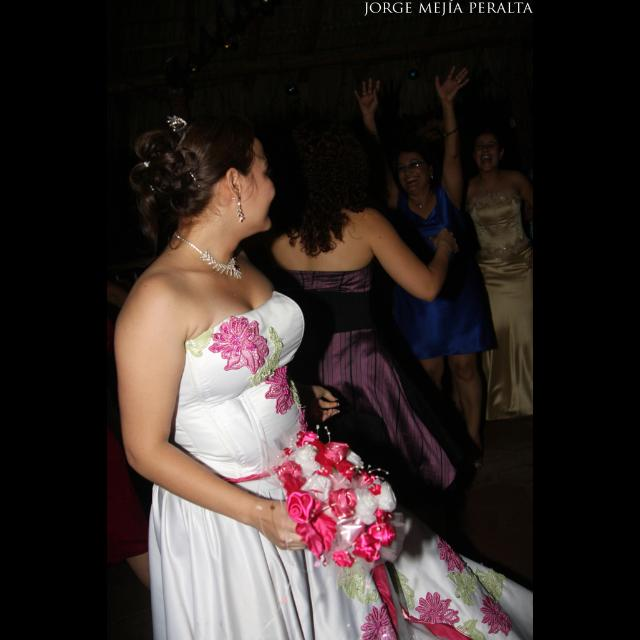Flower: (283, 434, 402, 578), (208, 317, 274, 377), (359, 600, 407, 640), (262, 362, 300, 412), (414, 586, 460, 624), (480, 591, 514, 637), (438, 536, 474, 574), (299, 412, 313, 432)
